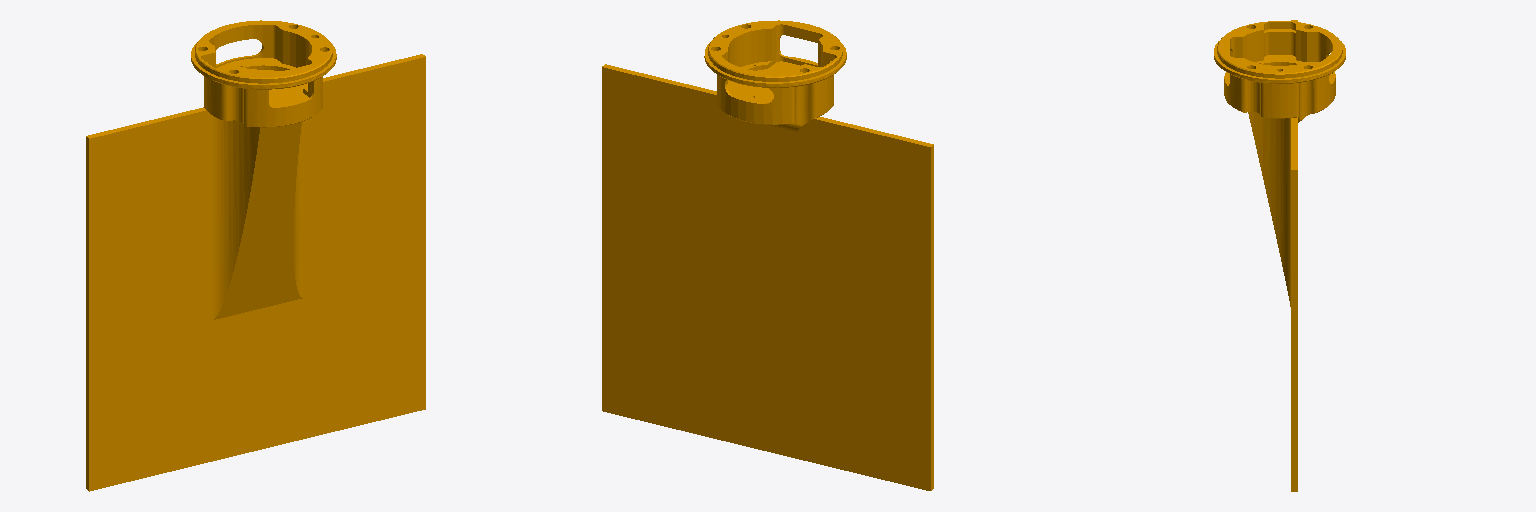
The robot description file, URDF, robot "paddleModel":
<robot name="paddleModel">
  <link name="paddle">
    <inertial>
      <origin xyz="0 0 0" rpy="0 0 0"/>
      <mass value="0.5"/>
      <inertia ixx="1" ixy="0.0" ixz="0.0" iyy="1" iyz="0.0" izz="1" />
    </inertial>

    <visual>
      <!-- scale is measured from the ratio between Kinova Gen3 urdf and real model -->
      <geometry>
        <mesh filename="./paddle.obj" scale="0.001 0.001 0.001" />
      </geometry>
     </visual>

    <collision>
      <!-- scale is measured from the ratio between Kinova Gen3 urdf and real model -->
      <geometry>
        <mesh filename="./paddle.obj" scale="0.001 0.001 0.001" />
      </geometry>
    </collision>

  </link>
</robot>

--- What the picture shows (computed from the rendered views, not written in the file) ---
Views: 3 orthographic renders of the robot side by side, from view 1: azimuth 30°, elevation 25°; view 2: azimuth 150°, elevation 25°; view 3: azimuth 270°, elevation 25°.
Model paddleModel with 1 links and 0 joints (none), rooted at paddle, posed all joints at 0.
Visible links, largest first — view 1: paddle; view 2: paddle; view 3: paddle.
Boxes of the visible links, x1,y1,x2,y2 form: paddle: [86, 20, 425, 491]; paddle: [602, 20, 933, 490]; paddle: [1214, 20, 1345, 491].
Bounding box of the posed robot: 0.2 × 0.0749 × 0.23 m (x, y, z).
1 mesh visuals loaded from 1 distinct referenced files (1 OBJ).